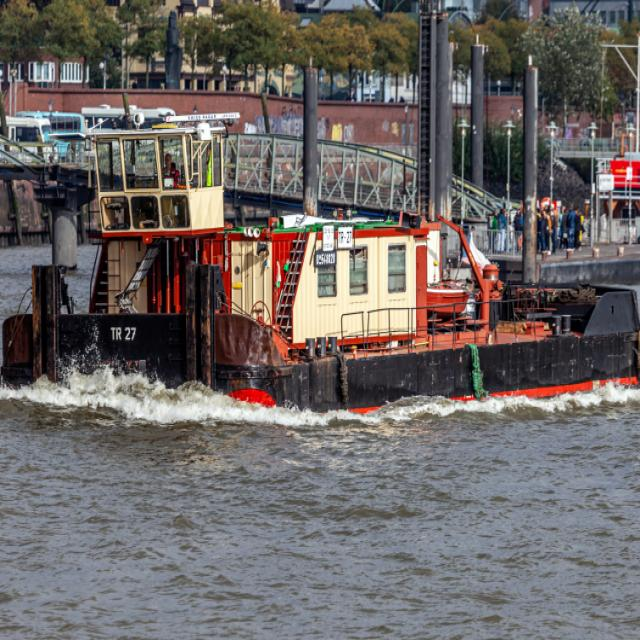tugboat: (1, 85, 640, 440)
